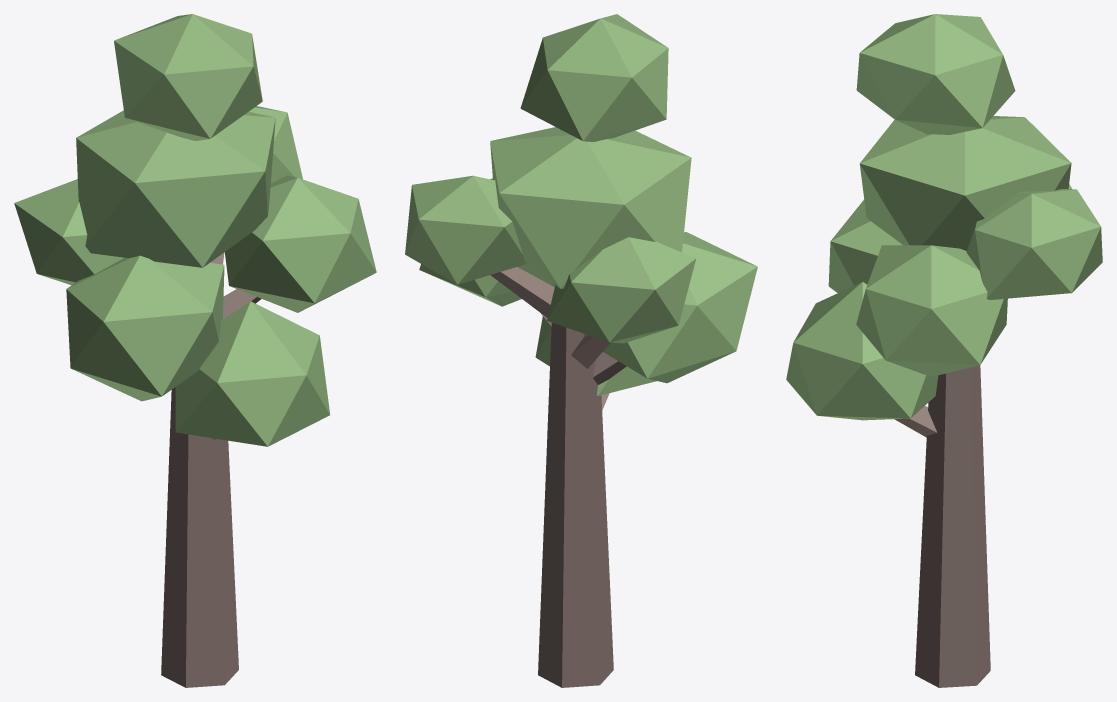
The model's file is arv_carvalho_5_sem_textura.glb.
3 views of the same model, side by side, from view 1: azimuth 30°, elevation 25°; view 2: azimuth 150°, elevation 25°; view 3: azimuth 270°, elevation 25° (orthographic). The views are drawn at different scales.
Parts seen in each view (by area): view 1: arv_carvalho_5; view 2: arv_carvalho_5; view 3: arv_carvalho_5.
Boxes of the visible parts, bbox=[...] form: arv_carvalho_5: bbox=[14, 14, 376, 687]; arv_carvalho_5: bbox=[405, 14, 757, 687]; arv_carvalho_5: bbox=[786, 14, 1102, 687].
Size of the model in its own units: 0.8631 by 1.87 by 0.8251.
